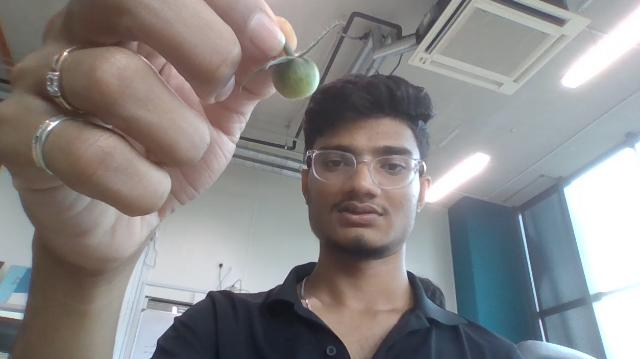Fruit Maturation: (271, 54, 319, 101)
